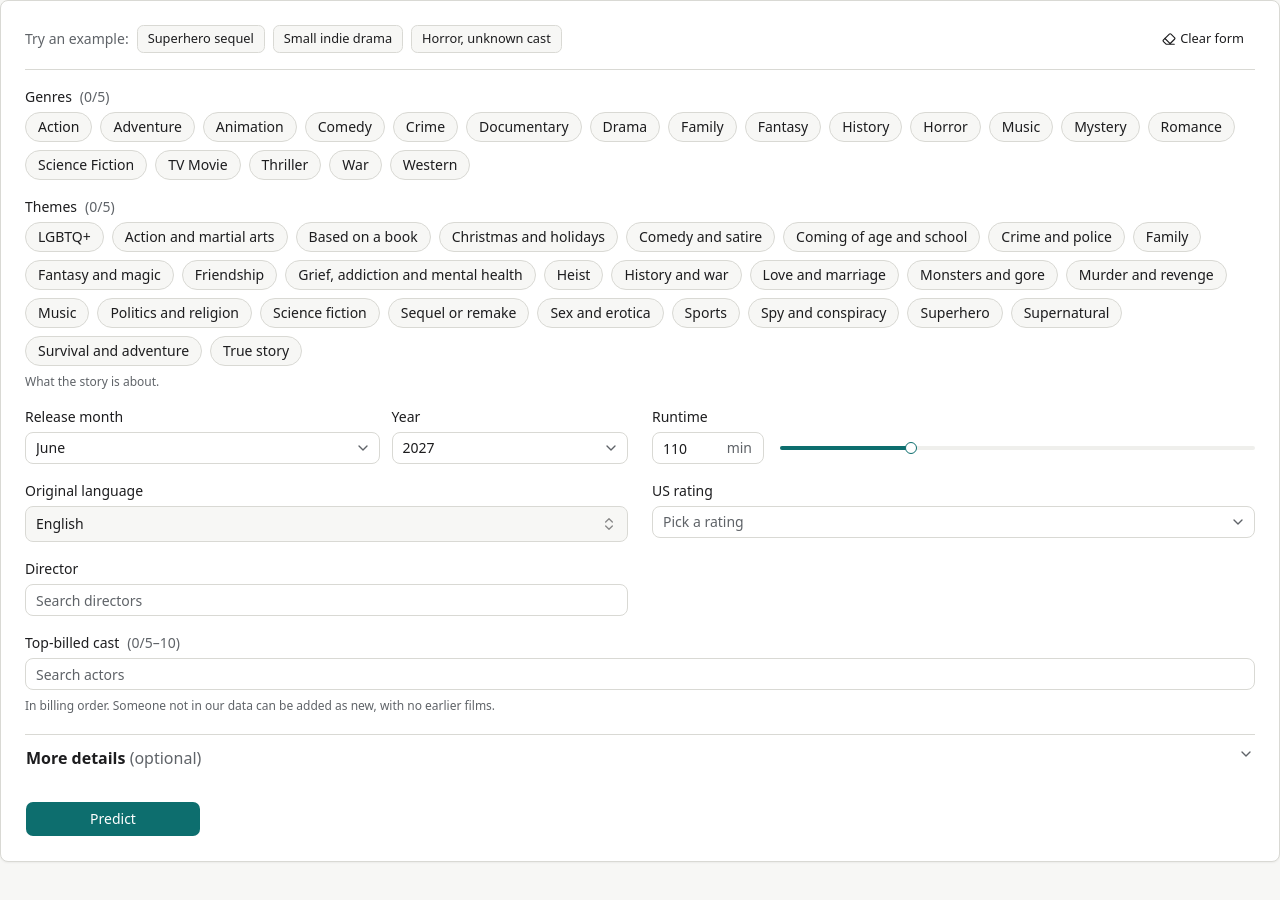
Test: inputs › genre chips toggle, count in the label, and stop at 5
This screenshot has width=1280, height=900.
Click the button "Action" at point(59, 127), box x1=25 y1=112 x2=92 y2=142
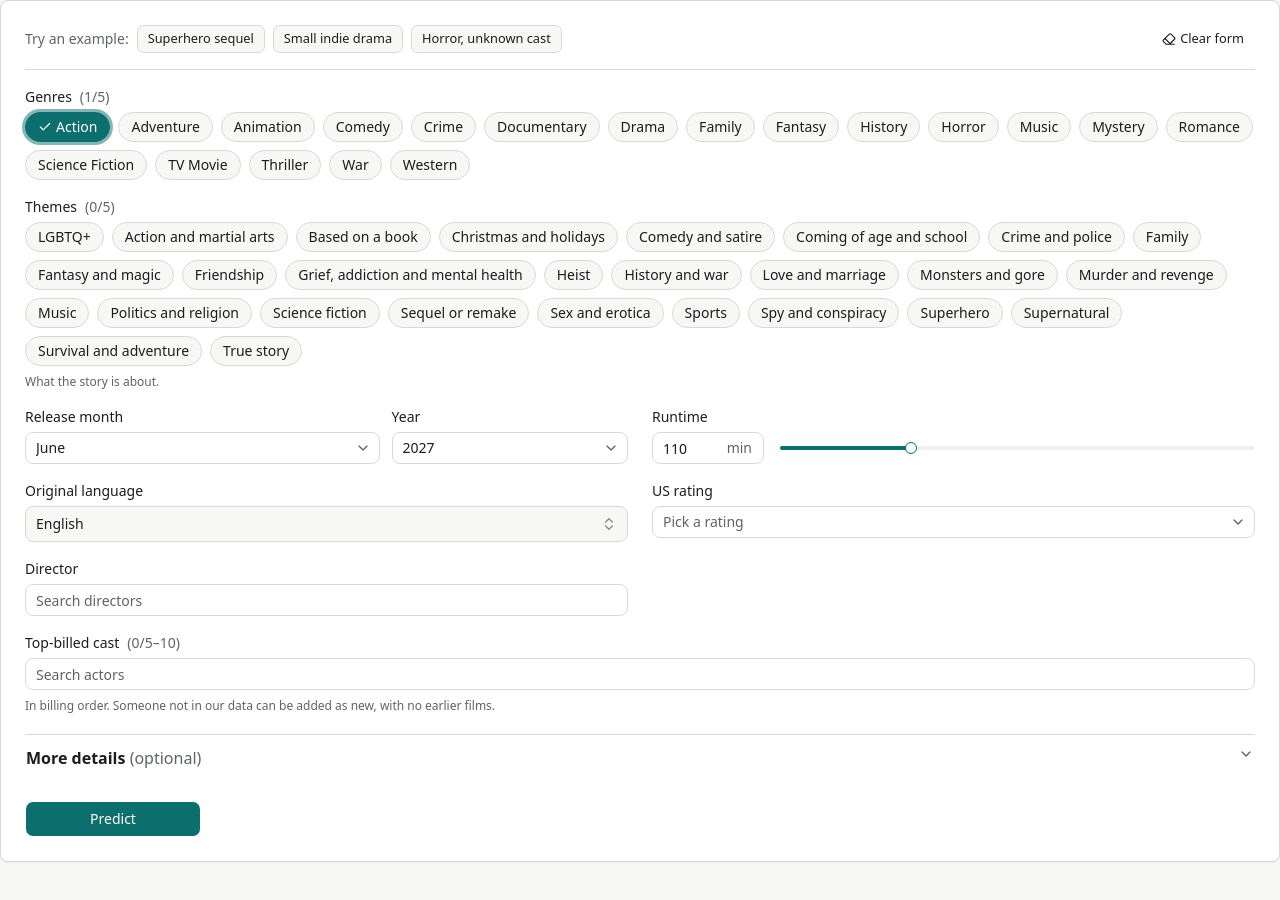
Click the button "Comedy" at point(363, 127), box x1=323 y1=112 x2=403 y2=142
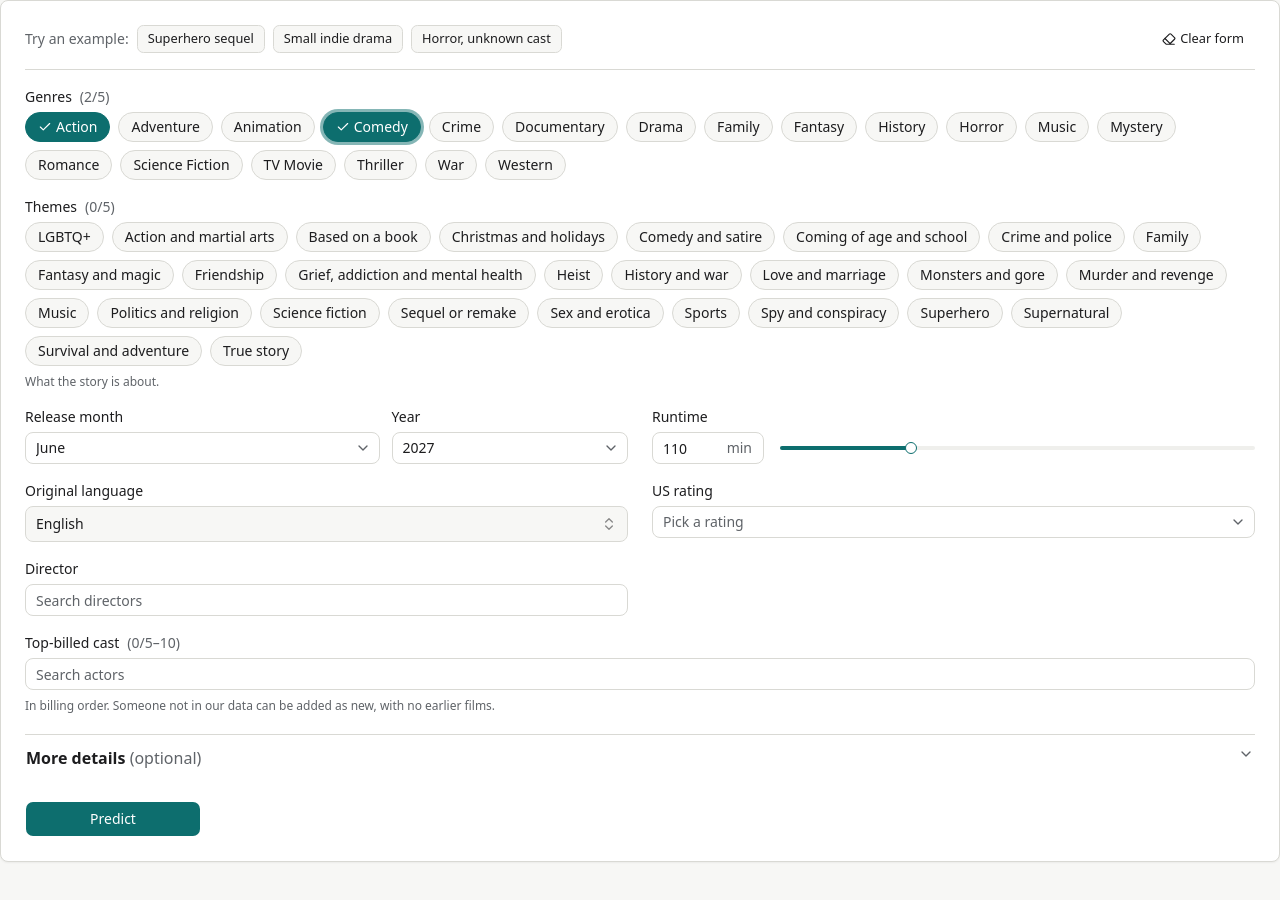
Click the button "Crime" at point(461, 127), box x1=429 y1=112 x2=494 y2=142
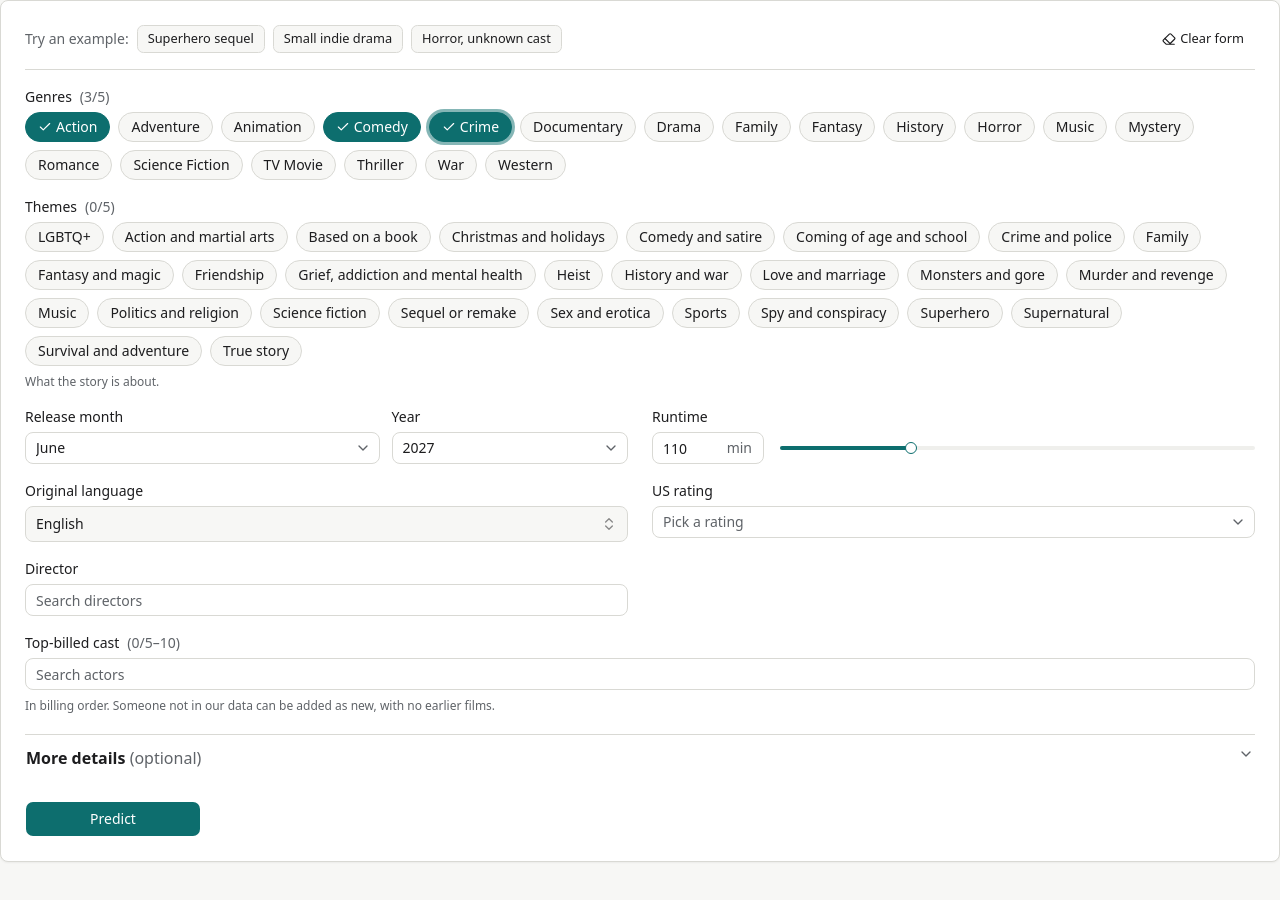
Click the button "Drama" at point(679, 127), box x1=644 y1=112 x2=714 y2=142
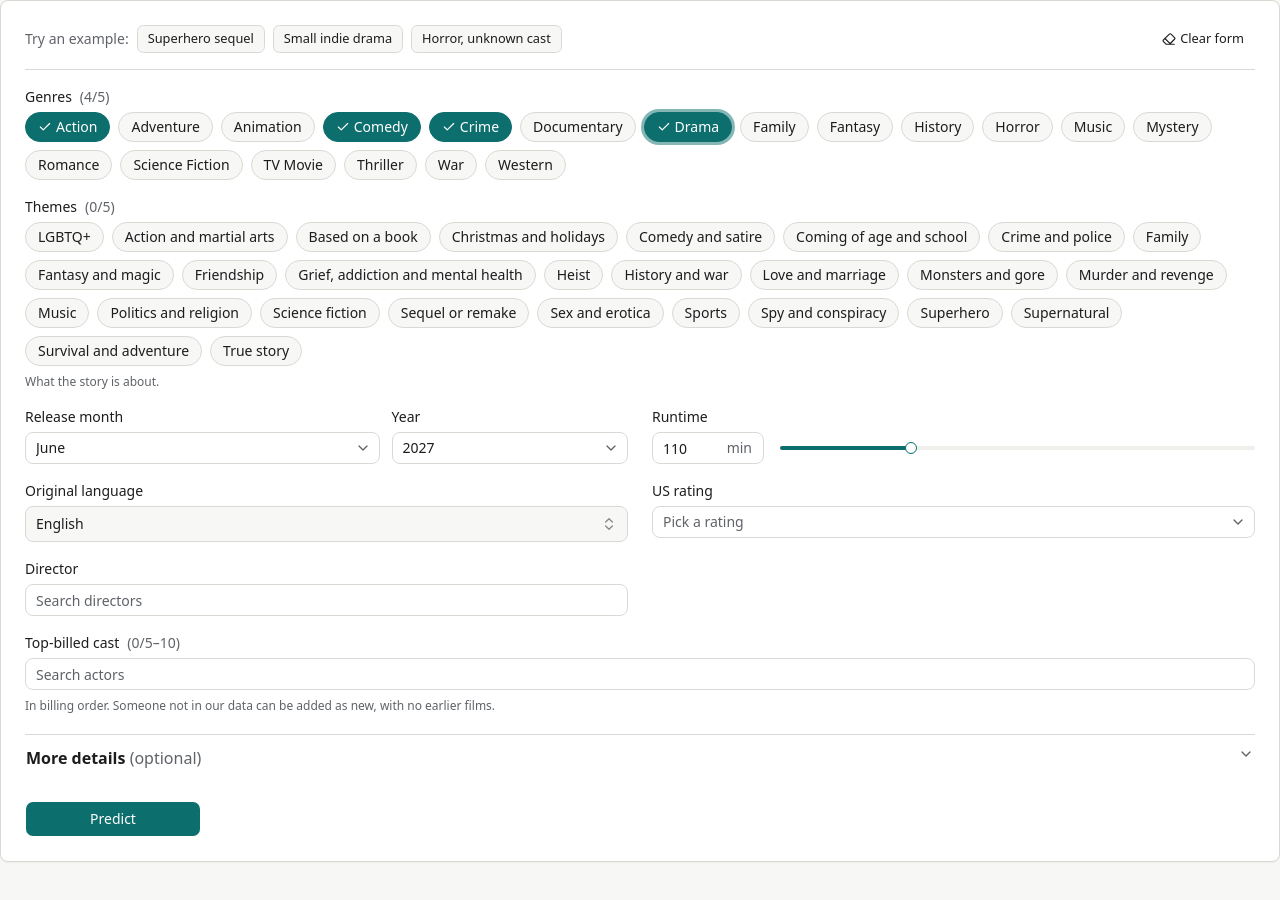
Click the button "War" at point(451, 165), box x1=425 y1=150 x2=477 y2=180
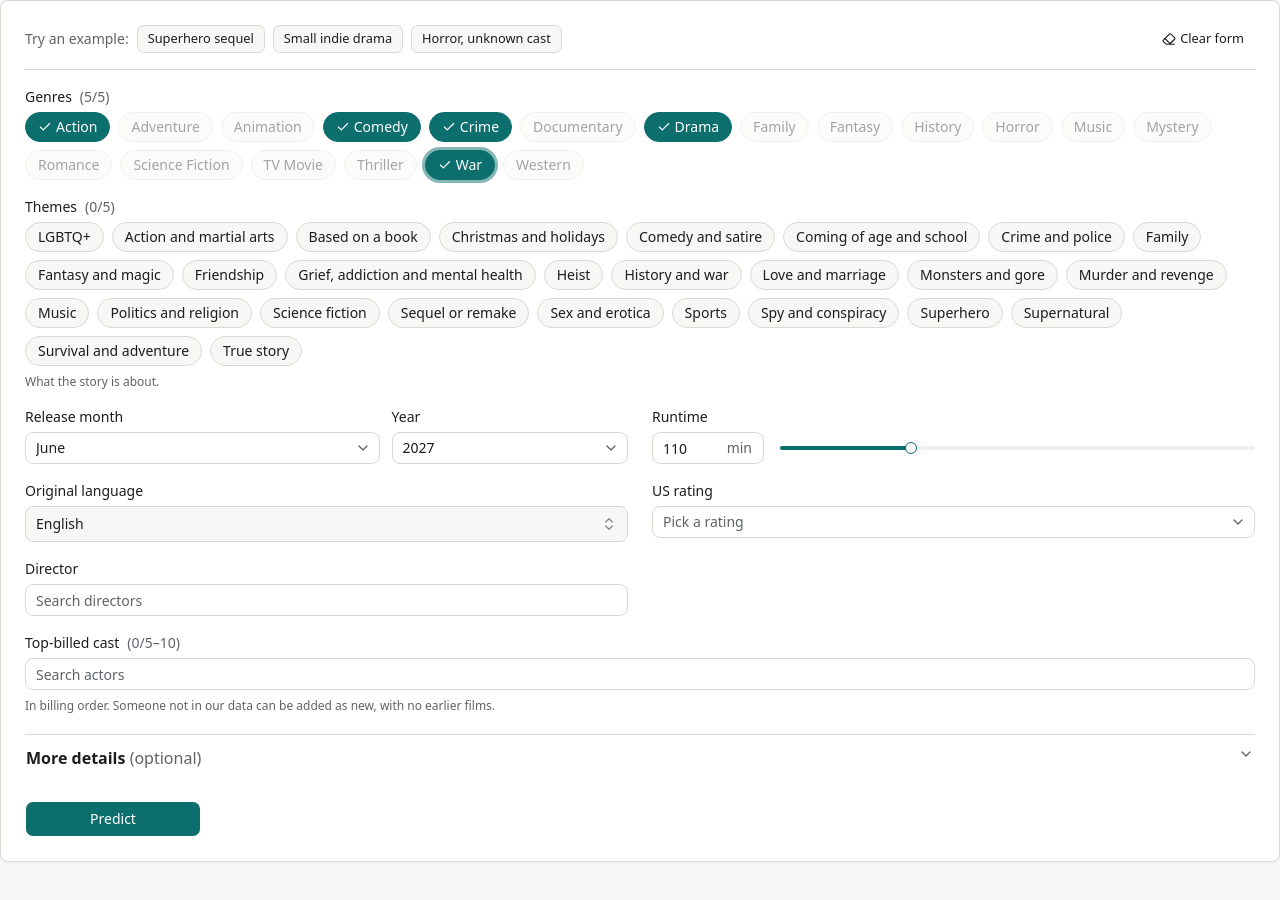
Check: the text "Genres (5/5)" is shown, box x1=25 y1=87 x2=110 y2=106
Check: the 1st button "Music" is disabled, box x1=1061 y1=112 x2=1125 y2=142
Click the button "Drama" at point(688, 127), box x1=644 y1=112 x2=732 y2=142
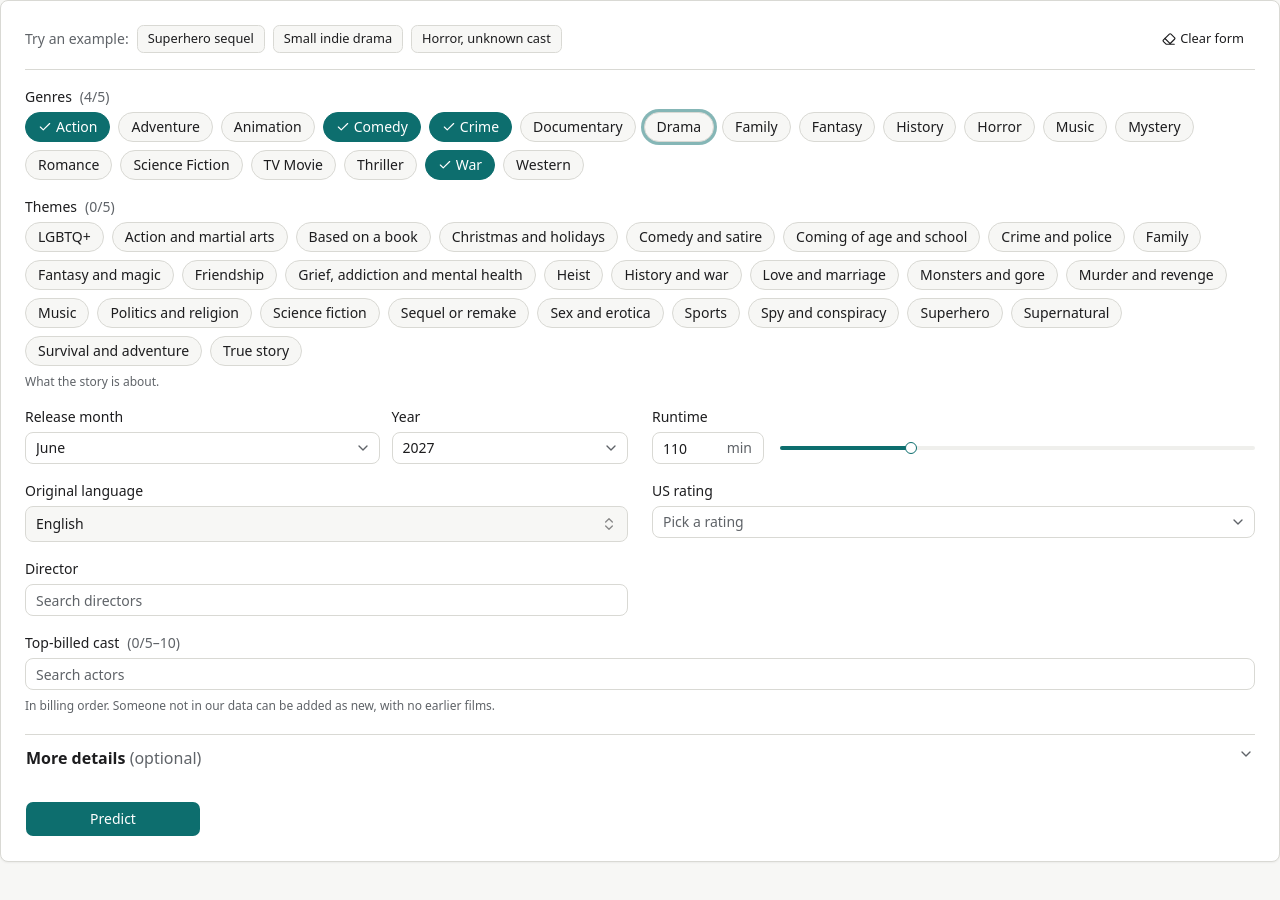
Check: the 1st button "Music" is enabled, box x1=1043 y1=112 x2=1107 y2=142
